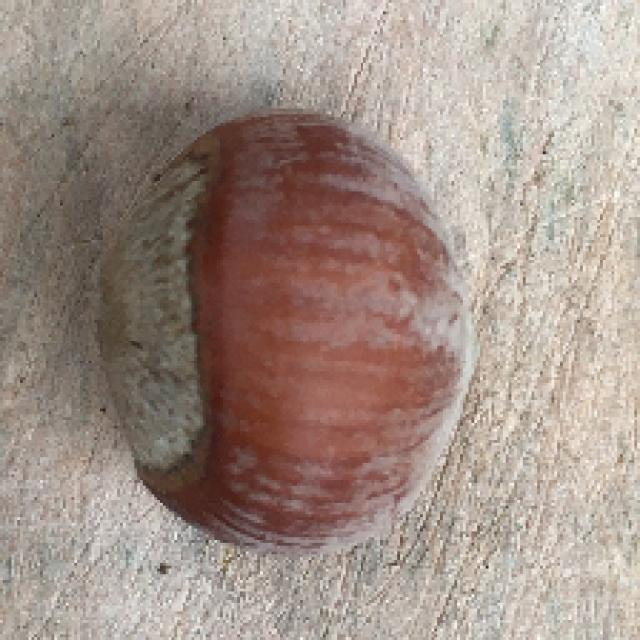qualityHazelnut: (101, 106, 474, 562)
